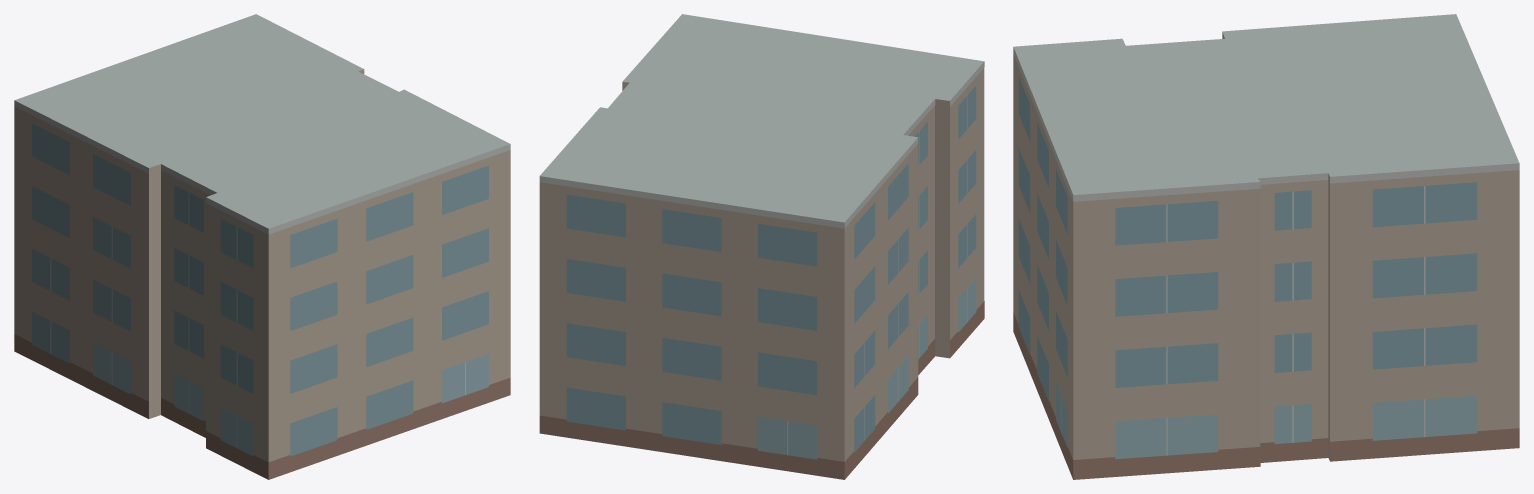
The model's file is survey-upis-32524680.glb.
3 renders of one model, left to right at view 1: azimuth 30°, elevation 25°; view 2: azimuth 150°, elevation 25°; view 3: azimuth 270°, elevation 25°, orthographic. The views are drawn at different scales.
Parts seen in each view (by area): view 1: survey-upis-32524680.tmp; view 2: survey-upis-32524680.tmp; view 3: survey-upis-32524680.tmp.
Part boxes in pixels (box(x1,y1,x2,y2)): survey-upis-32524680.tmp: box(14, 14, 510, 479); survey-upis-32524680.tmp: box(539, 14, 984, 479); survey-upis-32524680.tmp: box(1013, 14, 1519, 479).
Size of the model in its own units: 14.2 by 10.4 by 16.77.
